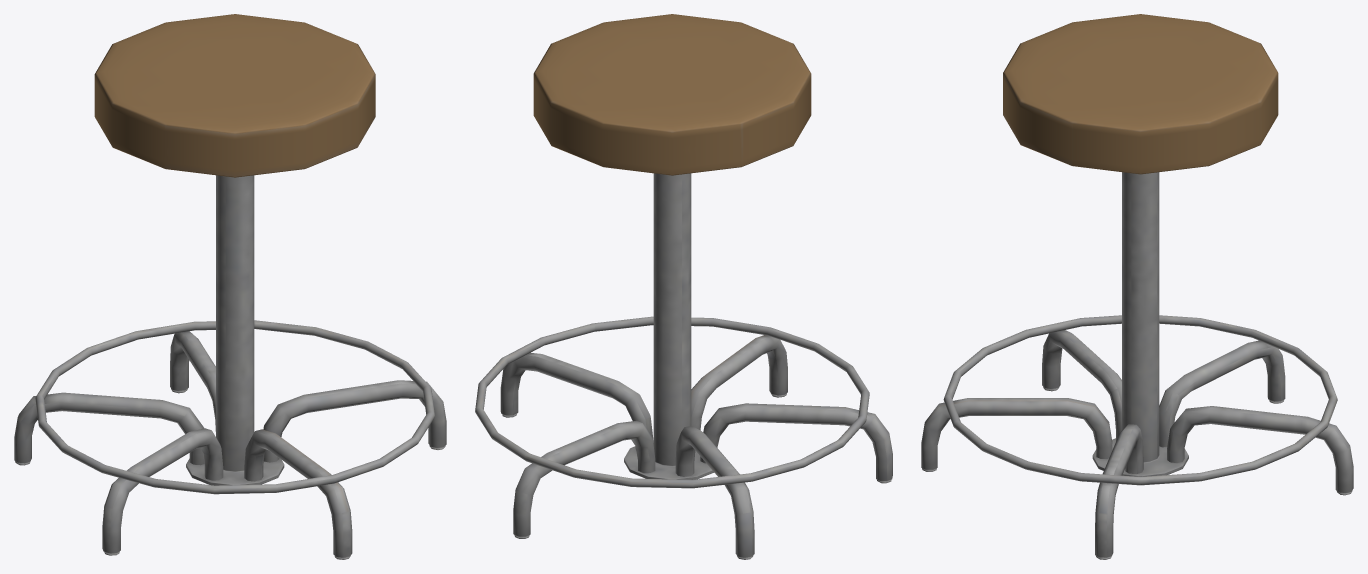
The model's file is Stool.fbx.
The picture shows the model from 3 angles, left to right: view 1: azimuth 30°, elevation 25°; view 2: azimuth 150°, elevation 25°; view 3: azimuth 270°, elevation 25°; orthographic projection.
Visible parts, largest first — view 1: Stool; view 2: Stool; view 3: Stool.
Boxes of the visible parts, box(x1,y1,x2,y2) form: Stool: box(14, 14, 446, 559); Stool: box(475, 14, 892, 559); Stool: box(921, 14, 1353, 559).
Size of the model in its own units: 57.19 by 60.54 by 59.25.
